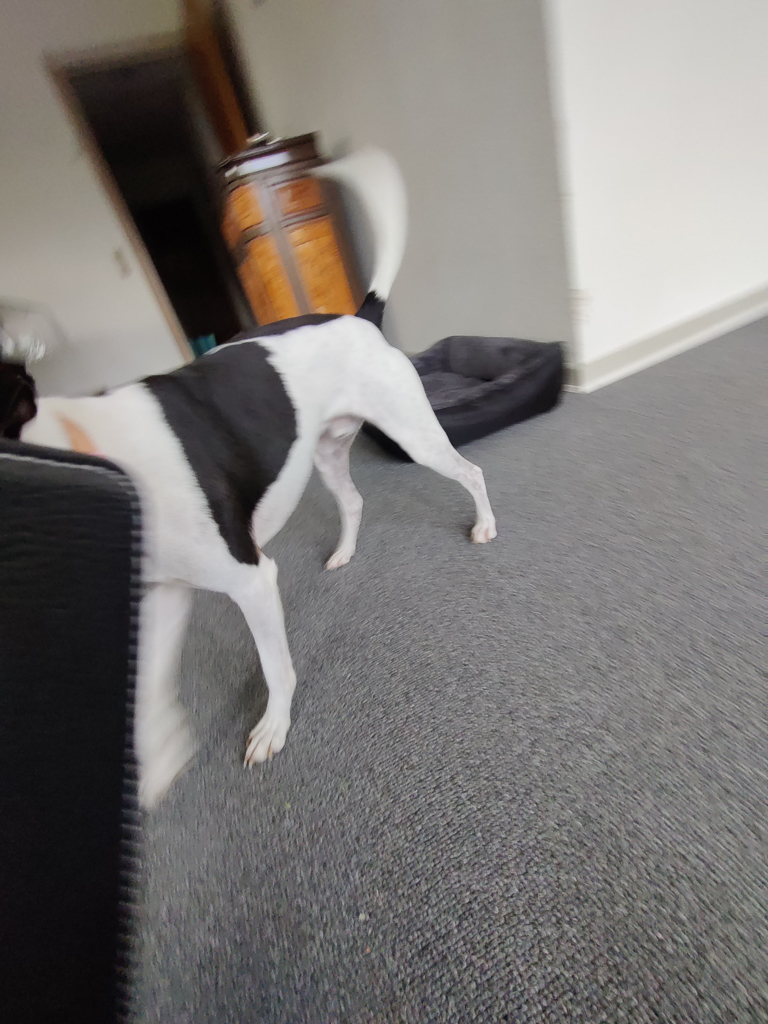Dog: (0, 128, 515, 833)
